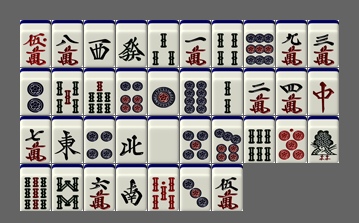0m: (20, 20, 51, 67)
0p: (276, 116, 307, 163)
0s: (148, 164, 179, 211)
1m: (180, 20, 211, 67)
1p: (148, 68, 179, 115)
1s: (308, 116, 339, 163)
1z: (52, 116, 83, 163)
2m: (244, 68, 275, 115)
2p: (20, 68, 51, 115)
2s: (212, 68, 243, 115)
2z: (116, 164, 147, 211)
3m: (308, 20, 339, 67)
3p: (180, 164, 211, 211)
3s: (148, 20, 179, 67)
3z: (84, 20, 115, 67)
4m: (276, 68, 307, 115)
4p: (84, 116, 115, 163)
4s: (212, 20, 243, 67)
4z: (116, 116, 147, 163)
5m: (212, 164, 243, 211)
5p: (180, 116, 211, 163)
5s: (52, 68, 83, 115)
5z: (148, 116, 179, 163)
6m: (84, 164, 115, 211)
6p: (116, 68, 147, 115)
6s: (244, 116, 275, 163)
6z: (116, 20, 147, 67)
7m: (20, 116, 51, 163)
7p: (212, 116, 243, 163)
7s: (84, 68, 115, 115)
7z: (308, 68, 339, 115)
8m: (52, 20, 83, 67)
8p: (180, 68, 211, 115)
8s: (52, 164, 83, 211)
9m: (276, 20, 307, 67)
9p: (244, 20, 275, 67)
9s: (20, 164, 51, 211)
